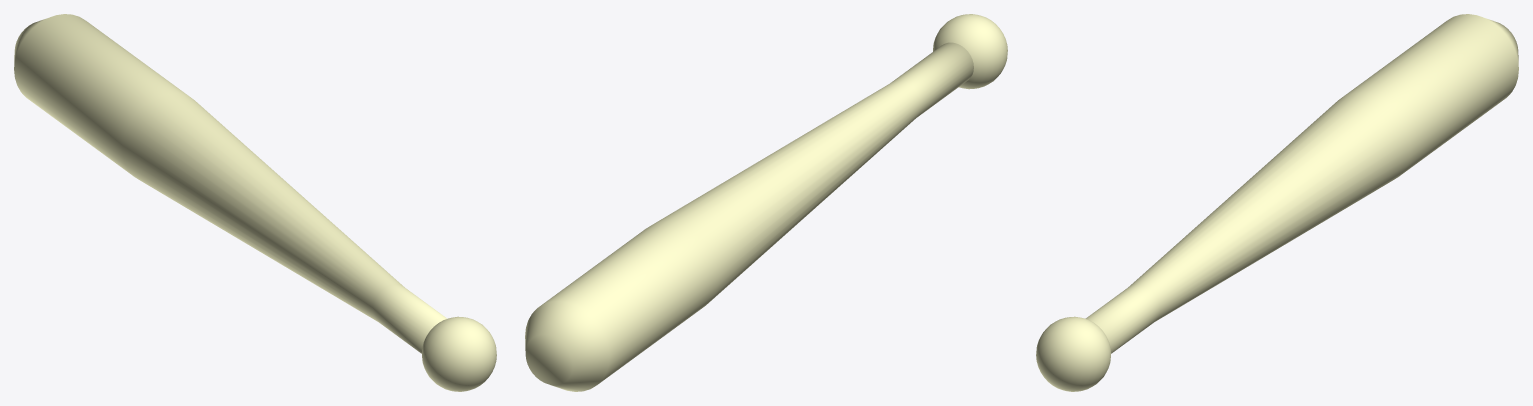
The model's file is item-bat.glb.
The picture shows the model from 3 angles, left to right: view 1: azimuth 30°, elevation 25°; view 2: azimuth 150°, elevation 25°; view 3: azimuth 330°, elevation 25°; orthographic projection.
Size of the model in its own units: 0.0452 by 0.0452 by 0.4075.
